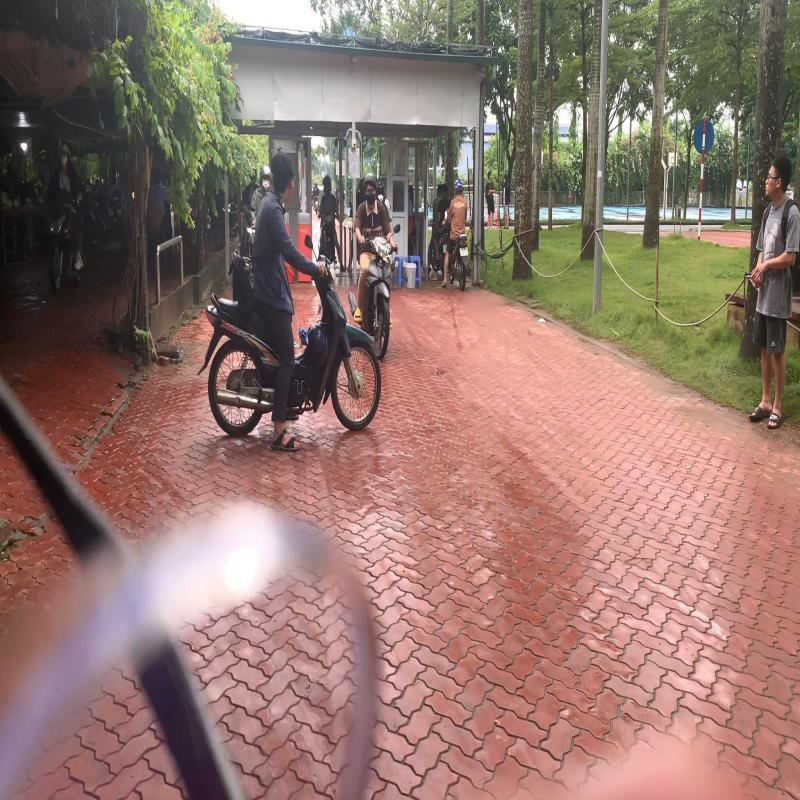nohelmet: (269, 148, 296, 198)
